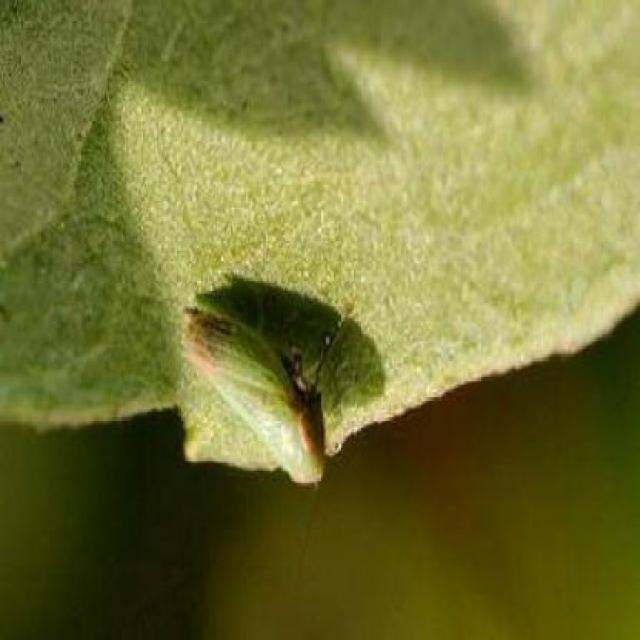green-leafhopper: (182, 297, 338, 491)
